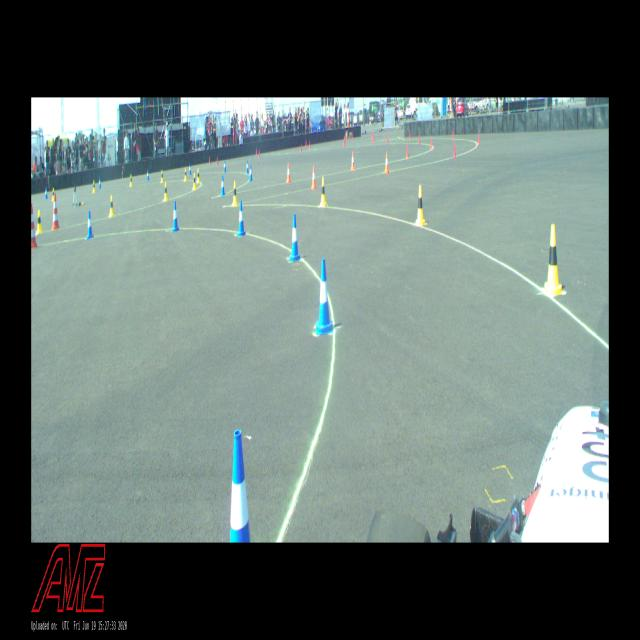blue_cone: (230, 429, 251, 543), (315, 259, 333, 335), (289, 214, 301, 262), (237, 200, 246, 237), (172, 201, 180, 232), (86, 211, 94, 239), (221, 176, 225, 196), (249, 164, 252, 181), (188, 163, 192, 175), (98, 178, 102, 188), (45, 187, 48, 199), (224, 160, 226, 173), (246, 160, 248, 173), (147, 169, 149, 181)
large_orange_cone: (51, 193, 60, 230), (31, 203, 38, 248)
orange_cone: (310, 166, 316, 190), (286, 162, 290, 184), (384, 153, 388, 174), (350, 152, 354, 170)
unknown_cone: (453, 142, 456, 158), (406, 144, 409, 158), (430, 136, 433, 149), (255, 147, 258, 156), (478, 132, 480, 144), (344, 136, 346, 147), (418, 134, 420, 144), (452, 128, 454, 138), (409, 130, 411, 140), (387, 135, 389, 145), (309, 140, 311, 150), (216, 157, 218, 166), (258, 149, 260, 158), (209, 155, 211, 164), (300, 144, 302, 152), (305, 140, 307, 147), (373, 134, 374, 142)
yellow_cone: (542, 224, 563, 296), (415, 185, 426, 225), (319, 176, 327, 206), (232, 181, 238, 205), (36, 209, 42, 233), (109, 196, 115, 217), (163, 182, 168, 201), (192, 172, 197, 190), (184, 168, 188, 182), (92, 180, 96, 193), (197, 168, 200, 183), (160, 170, 163, 183), (52, 188, 54, 201), (130, 174, 132, 186)
